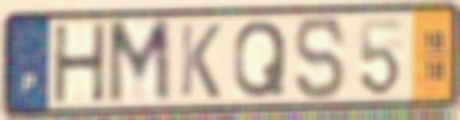5: (358, 15, 405, 98)
H: (50, 20, 109, 106)
K: (178, 21, 224, 101)
M: (105, 16, 174, 109)
Q: (231, 18, 290, 102)
S: (292, 13, 348, 103)
